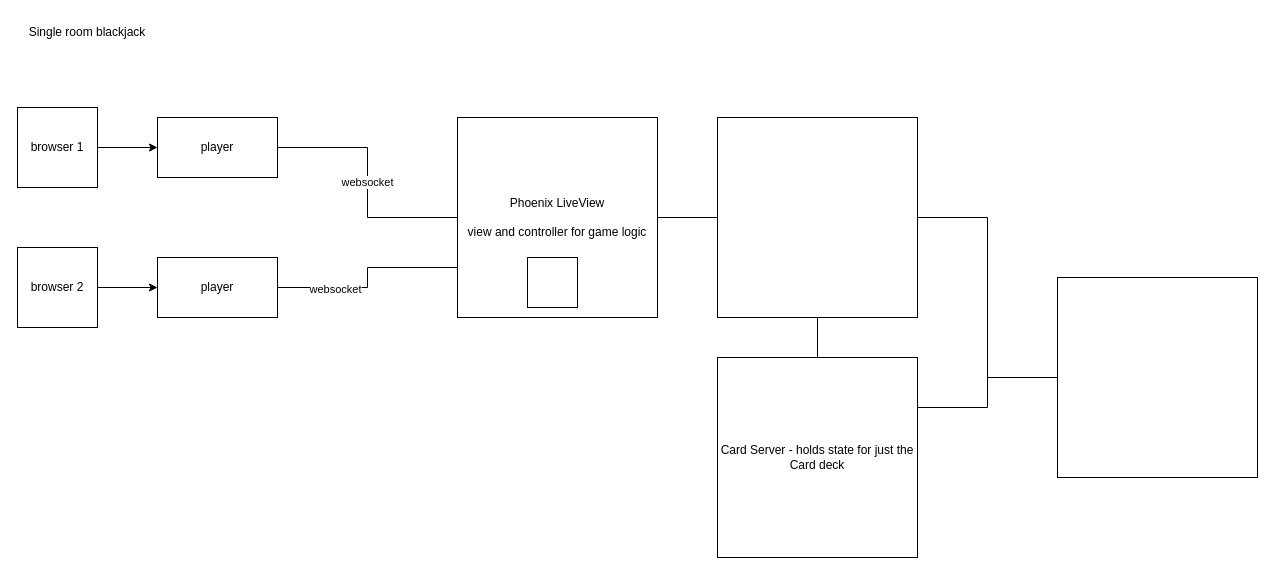
This 1275x575 diagram has some shape labels left out. The centre of each missing label's shape, as x and y in pixels:
GameServer - holds game state: the point at 817,217
pubsub: the point at 552,282
Supervisor: the point at 1157,377
